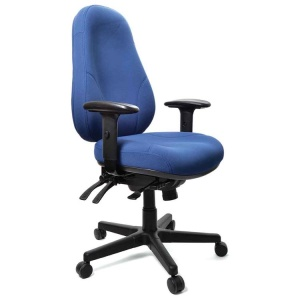chair: (70, 4, 230, 294)
